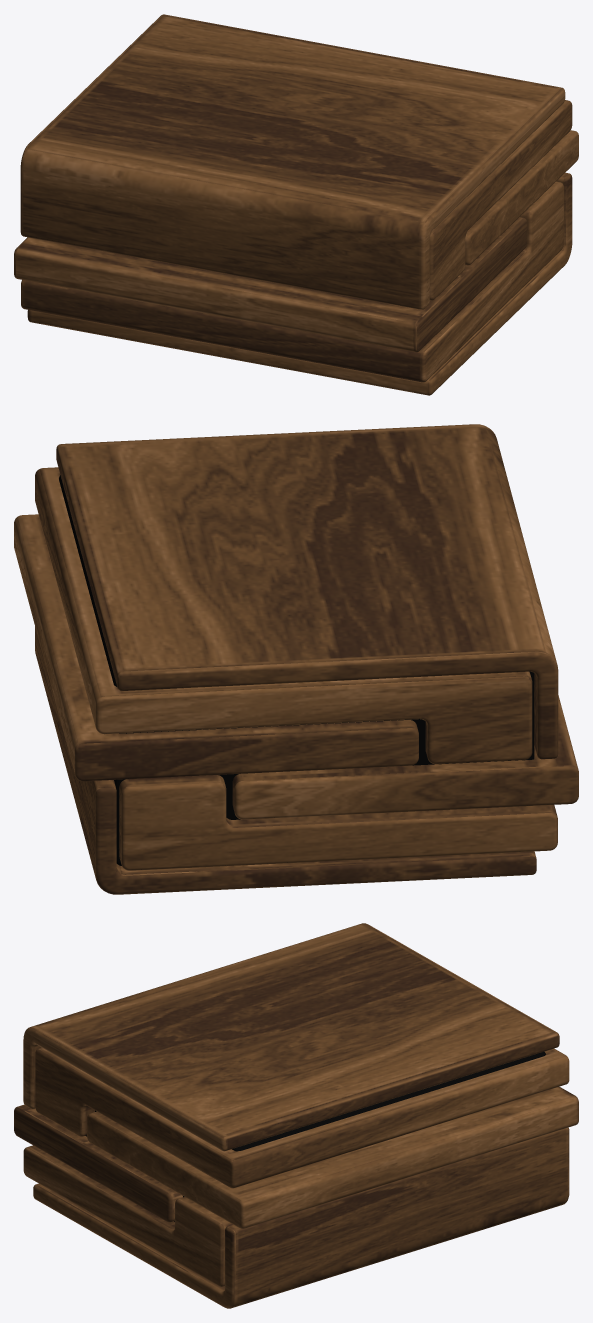
Rendered from ensi-box.glb.
3 renders of one model, top to bottom at view 1: azimuth 30°, elevation 25°; view 2: azimuth 150°, elevation 25°; view 3: azimuth 270°, elevation 25°, orthographic. The views are drawn at different scales.
Parts seen in each view (by area): view 1: Ahşap Bake; view 2: Ahşap Bake, Plastik; view 3: Ahşap Bake, Plastik.
Boxes of the visible parts, x1,y1,x2,y2 form: Ahşap Bake: (14, 14, 578, 395); Ahşap Bake: (14, 424, 578, 894); Plastik: (59, 475, 534, 865); Ahşap Bake: (14, 923, 578, 1308); Plastik: (85, 1051, 545, 1221).
Size of the model in its own units: 0.173 by 0.0631 by 0.1751.
2 materials, 1 textured.
